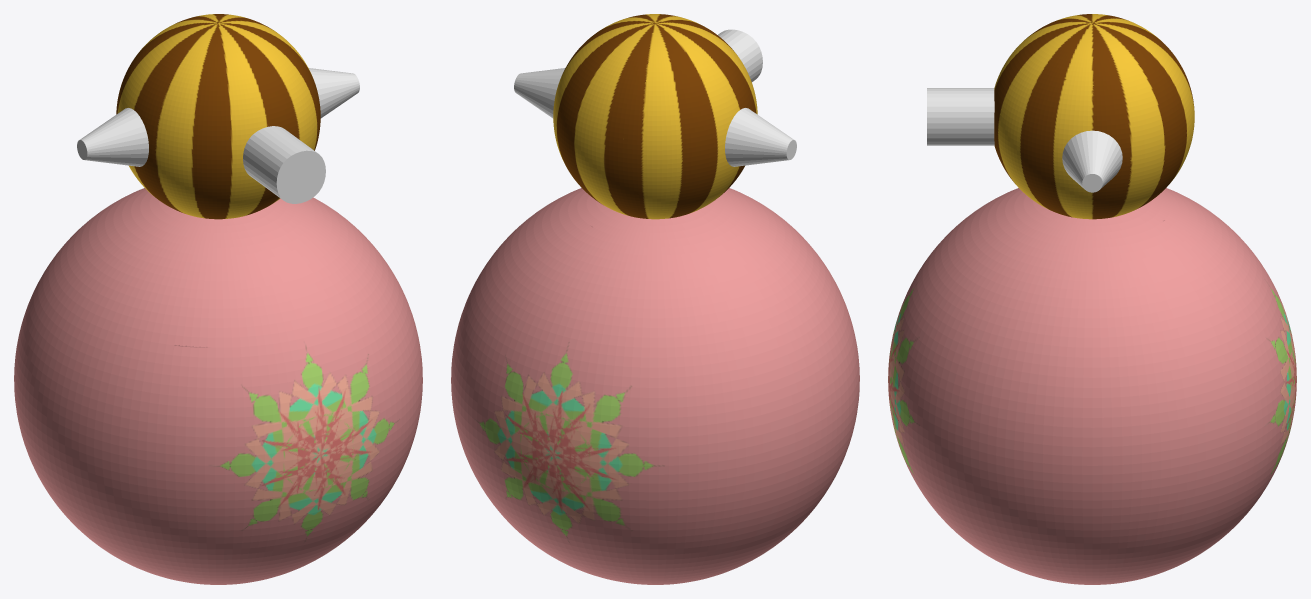
File: BOD0_BMC11_BCC1_BPT0_FRC6_HEA0_HMC6_HCC3_HPT2_ELT2_ERT2_ELL2_ERL1_AP0_AAL1_AAR0_BEK1.fbx
The picture shows the model from 3 angles, left to right: view 1: azimuth 30°, elevation 25°; view 2: azimuth 150°, elevation 25°; view 3: azimuth 270°, elevation 25°; orthographic projection.
Visible parts, largest first — view 1: Body, Beak, Ear, Ear.001; view 2: Body, Ear, Ear.001, Beak; view 3: Body, Beak, Ear.001.
Boxes of the visible parts, x1,y1,x2,y2 form: Body: (14,14,422,584); Beak: (243,126,325,203); Ear: (77,108,148,166); Ear.001: (308,68,359,118); Body: (451,14,859,584); Ear: (725,108,796,166); Ear.001: (514,68,565,118); Beak: (718,29,762,81); Body: (888,14,1296,584); Beak: (927,88,994,145); Ear.001: (1062,130,1122,192).
Bounding box in the file's own units: 49.36 × 72.41 × 49.36.
Materials: 1 (1 with a texture image).
